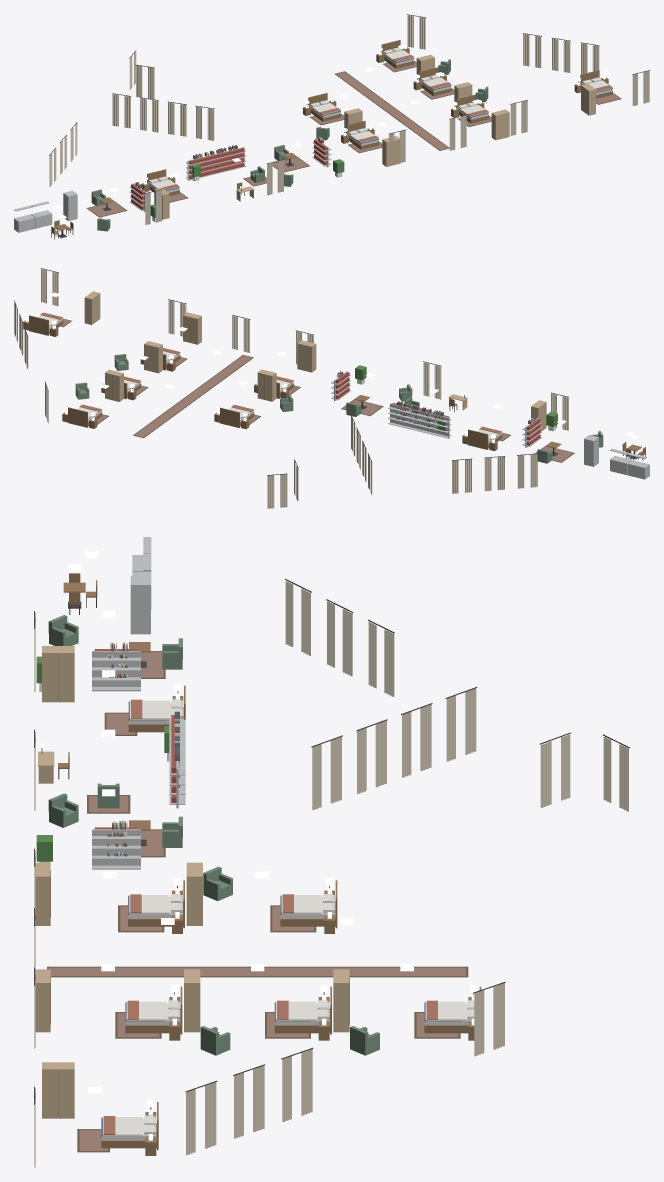
Rendered from fine-s3.glb.
3 renders of one model, top to bottom at view 1: azimuth 30°, elevation 25°; view 2: azimuth 150°, elevation 25°; view 3: azimuth 270°, elevation 25°, orthographic. The views are drawn at different scales.
Visible parts, largest first — view 1: soft-s3, dresser.014, dresser.011, dresser#s3r5.000, fridge#s3r0.000, bed-frame.010, bed-frame.011, bed-frame.013, bed-frame.012, kitchen-counter#s3r0.000, shelving#s3r3.001, bed-frame.014 (+4 smaller); view 2: soft-s3, dresser.010, dresser.011, dresser.013, dresser.014, dresser.012, dresser#s3r5.000, shelving#s3r3.000, fridge#s3r0.000, kitchen-counter#s3r0.000, shelving#s3r3.002, bed-frame#s3r2.000 (+6 smaller); view 3: soft-s3, shelving#s3r4.000, shelving#s3r1.000, dresser#s3r2.000, dresser#s3r5.000, fridge#s3r0.000, dresser.012, dresser.010, dresser.013, dresser.011, dresser.014.
Boxes of the visible parts, x1,y1,x2,y2 form: soft-s3: (49,14,649,224); dresser.014: (491,109,509,140); dresser.011: (382,136,400,166); dresser#s3r5.000: (581,83,595,115); fridge#s3r0.000: (63,190,77,220); bed-frame.010: (308,93,341,121); bed-frame.011: (346,121,379,149); bed-frame.013: (419,67,451,96); bed-frame.012: (381,40,414,68); kitchen-counter#s3r0.000: (14,205,35,232); shelving#s3r3.001: (201,153,222,176); bed-frame.014: (456,94,488,123); soft-s3: (14,268,574,508); dresser.010: (257,369,276,401); dresser.011: (297,340,316,372); dresser.013: (144,341,162,373); dresser.014: (183,312,201,344); dresser.012: (105,369,123,401); dresser#s3r5.000: (84,291,100,324); shelving#s3r3.000: (425,412,451,438); fridge#s3r0.000: (584,435,598,466); kitchen-counter#s3r0.000: (627,453,649,479); shelving#s3r3.002: (400,406,424,432); bed-frame#s3r2.000: (468,429,502,449); soft-s3: (34,578,629,1167); shelving#s3r4.000: (92,827,140,869); shelving#s3r1.000: (92,649,140,691); dresser#s3r2.000: (42,646,74,702); dresser#s3r5.000: (42,1062,74,1118); fridge#s3r0.000: (130,575,150,634); dresser.012: (333,969,349,1032); dresser.010: (186,862,202,925); dresser.013: (184,969,200,1032); dresser.011: (35,862,50,925); dresser.014: (35,969,50,1032).
Size of the model in its own units: 51.54 by 2.66 by 21.92.
